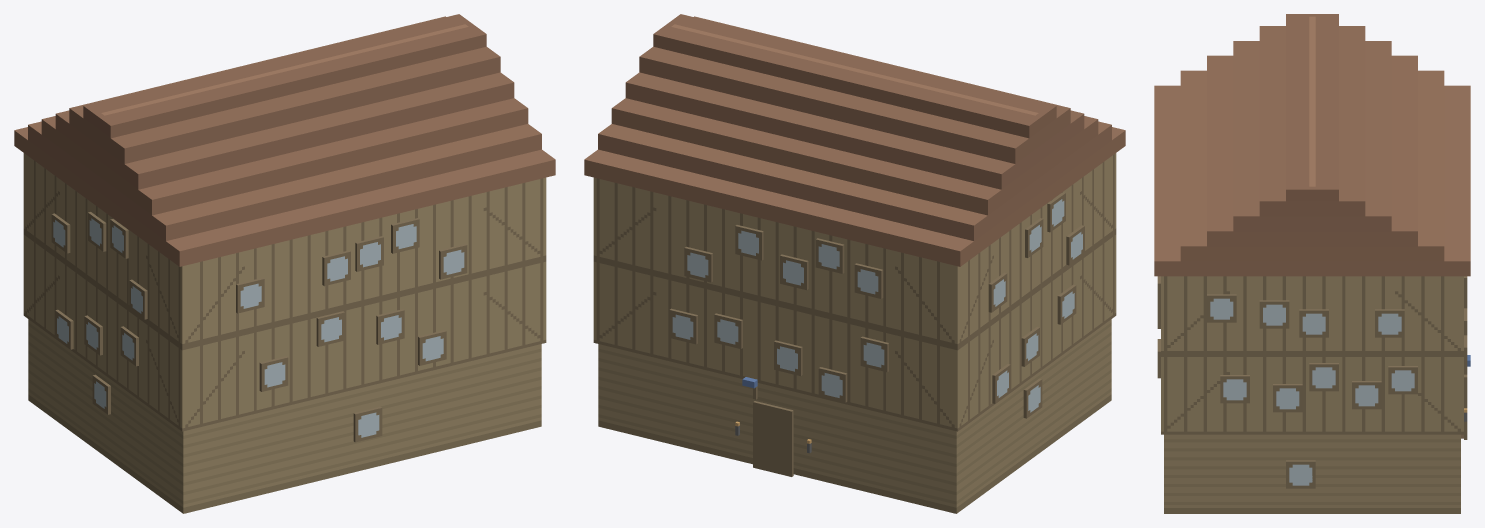
File: posada_01.glb
The picture shows the model from 3 angles, left to right: view 1: azimuth 30°, elevation 25°; view 2: azimuth 150°, elevation 25°; view 3: azimuth 270°, elevation 25°; orthographic projection. The views are drawn at different scales.
Parts seen in each view (by area): view 1: posada_01; view 2: posada_01; view 3: posada_01.
Boxes of the visible parts, x1,y1,x2,y2 form: posada_01: (14,14,555,513); posada_01: (584,14,1125,513); posada_01: (1154,14,1470,513).
Size of the model in its own units: 12.6 by 11 by 9.6.
